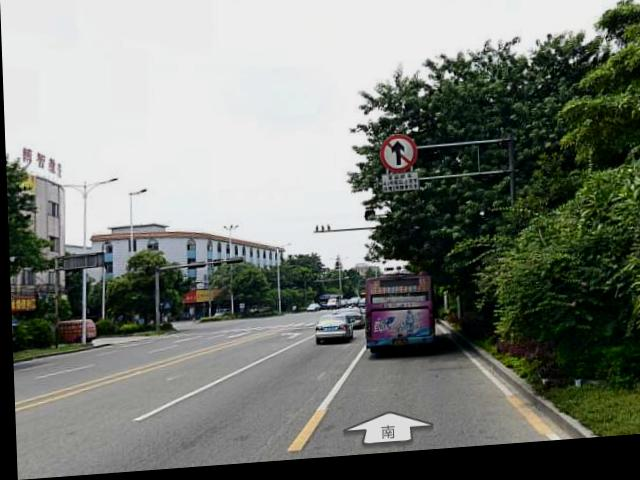not_go_straight: (378, 139, 416, 179)
